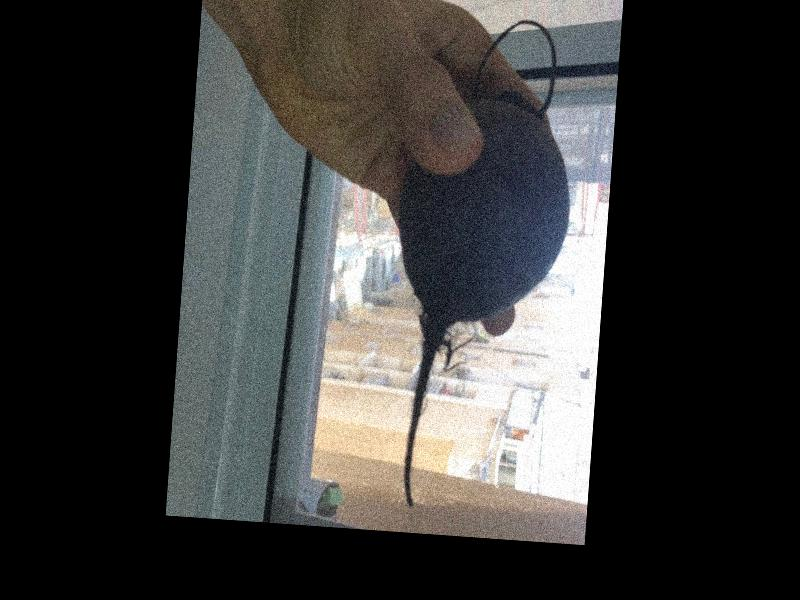Beet: (379, 14, 583, 518)
